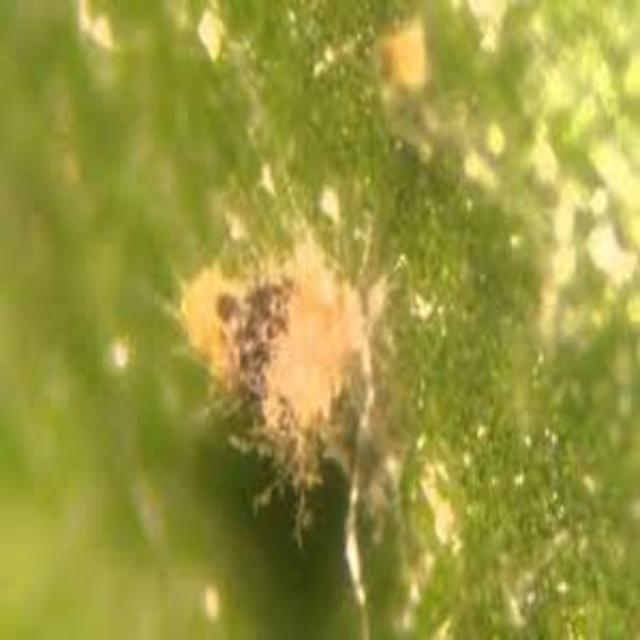spider mite: (126, 196, 442, 532)
